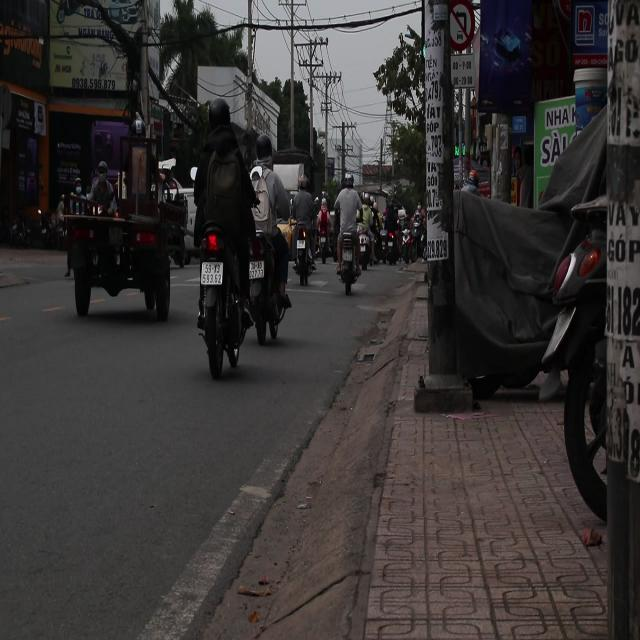motorbike: (198, 219, 252, 377), (252, 220, 287, 361), (336, 223, 365, 294), (289, 215, 315, 289), (376, 227, 398, 264)
truck: (64, 113, 178, 341)
